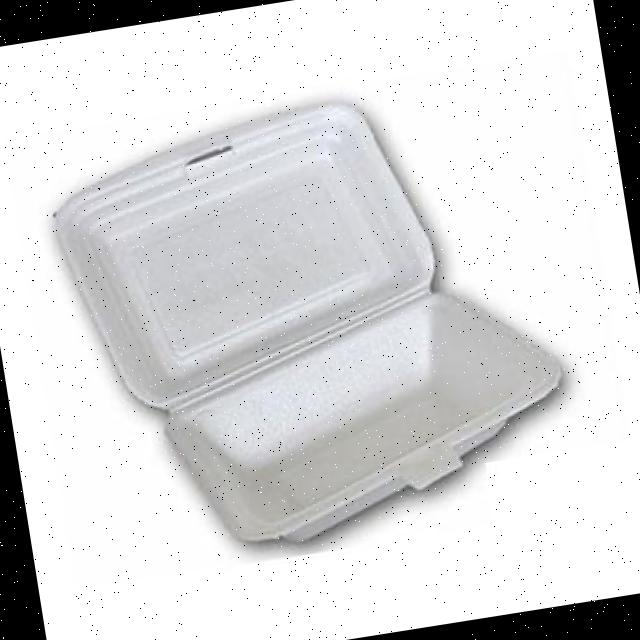styrofoam: (37, 66, 584, 574)
